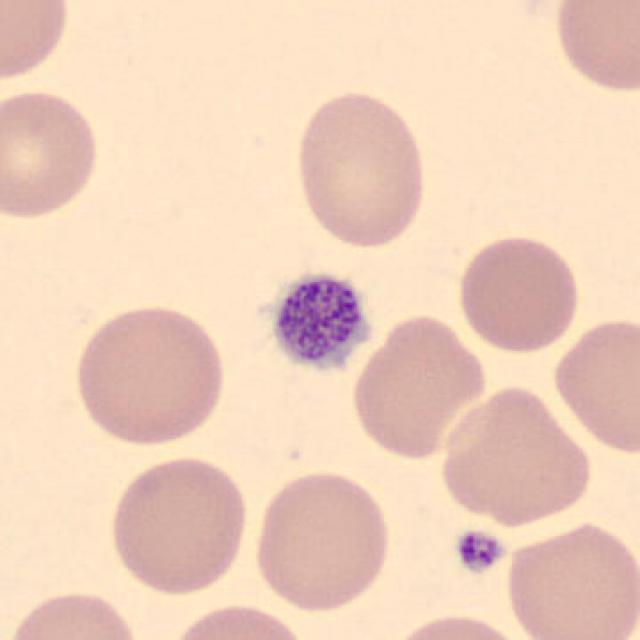Platelets: (263, 266, 375, 378), (452, 527, 506, 577)
RBC: (69, 300, 231, 450), (436, 381, 598, 529), (290, 85, 432, 252), (347, 308, 492, 462), (103, 451, 253, 598), (249, 466, 395, 614), (453, 229, 585, 356), (502, 518, 638, 640), (0, 85, 103, 224), (547, 311, 640, 458), (547, 0, 640, 98), (4, 585, 146, 640), (0, 0, 73, 88), (165, 599, 311, 640), (384, 610, 532, 640)
